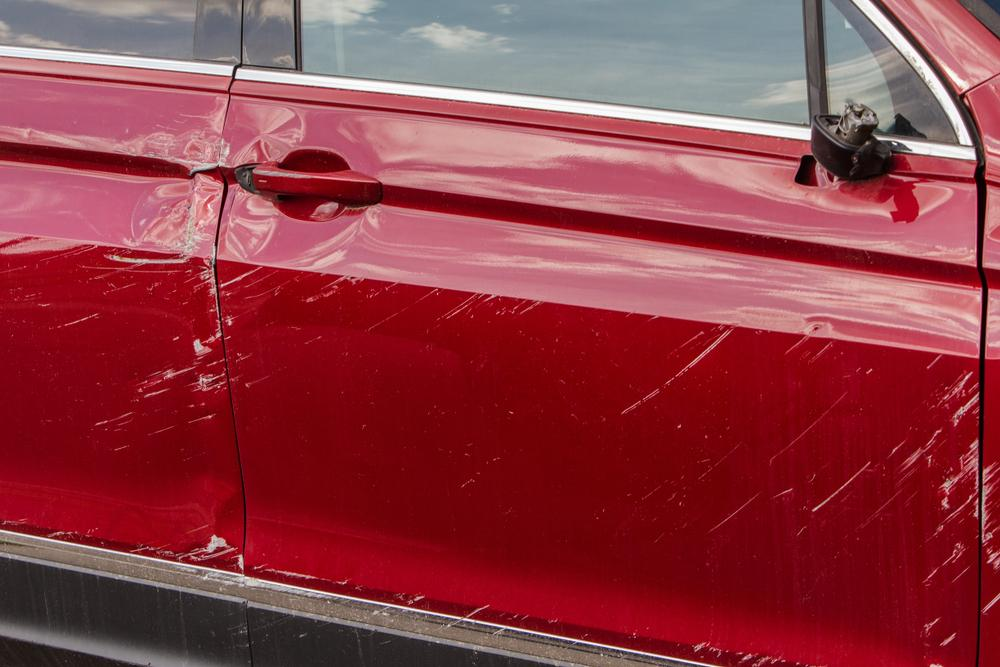dent: (0, 513, 245, 577), (221, 100, 303, 167), (228, 190, 276, 257)
scratch: (218, 259, 984, 667), (0, 182, 226, 456), (256, 561, 821, 667), (976, 460, 1000, 617)
